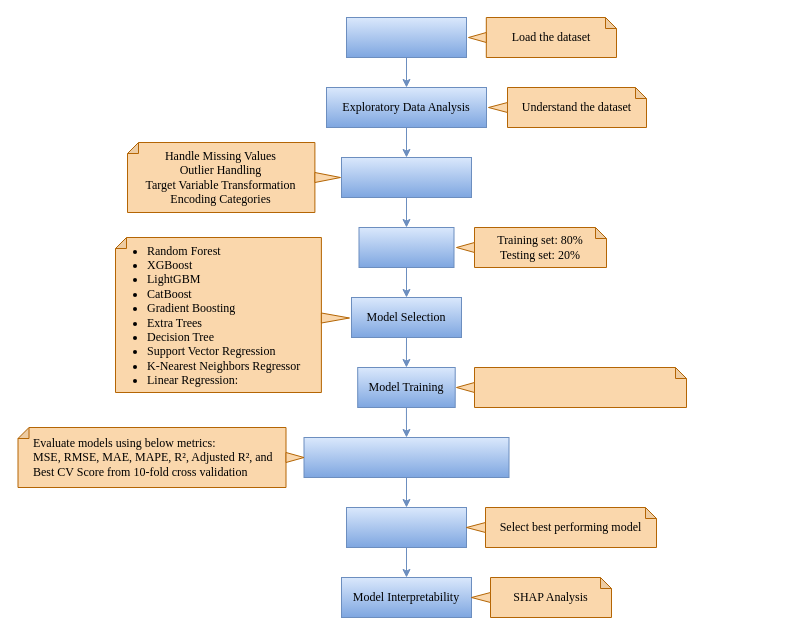
Some shapes in this 797 by 635 pixel diagram are drawn without their labels. The centre of each missing label's shape, as x and y in pixels:
Data Collection: point (406, 37)
Data Preprocessing: point (406, 177)
Data Splitting: point (406, 247)
Model Evaluation and Visualization: point (406, 457)
Select Best Model: point (406, 527)
Train Models using Hyperparameter Tuning & KFold Cross validation: point (580, 387)
